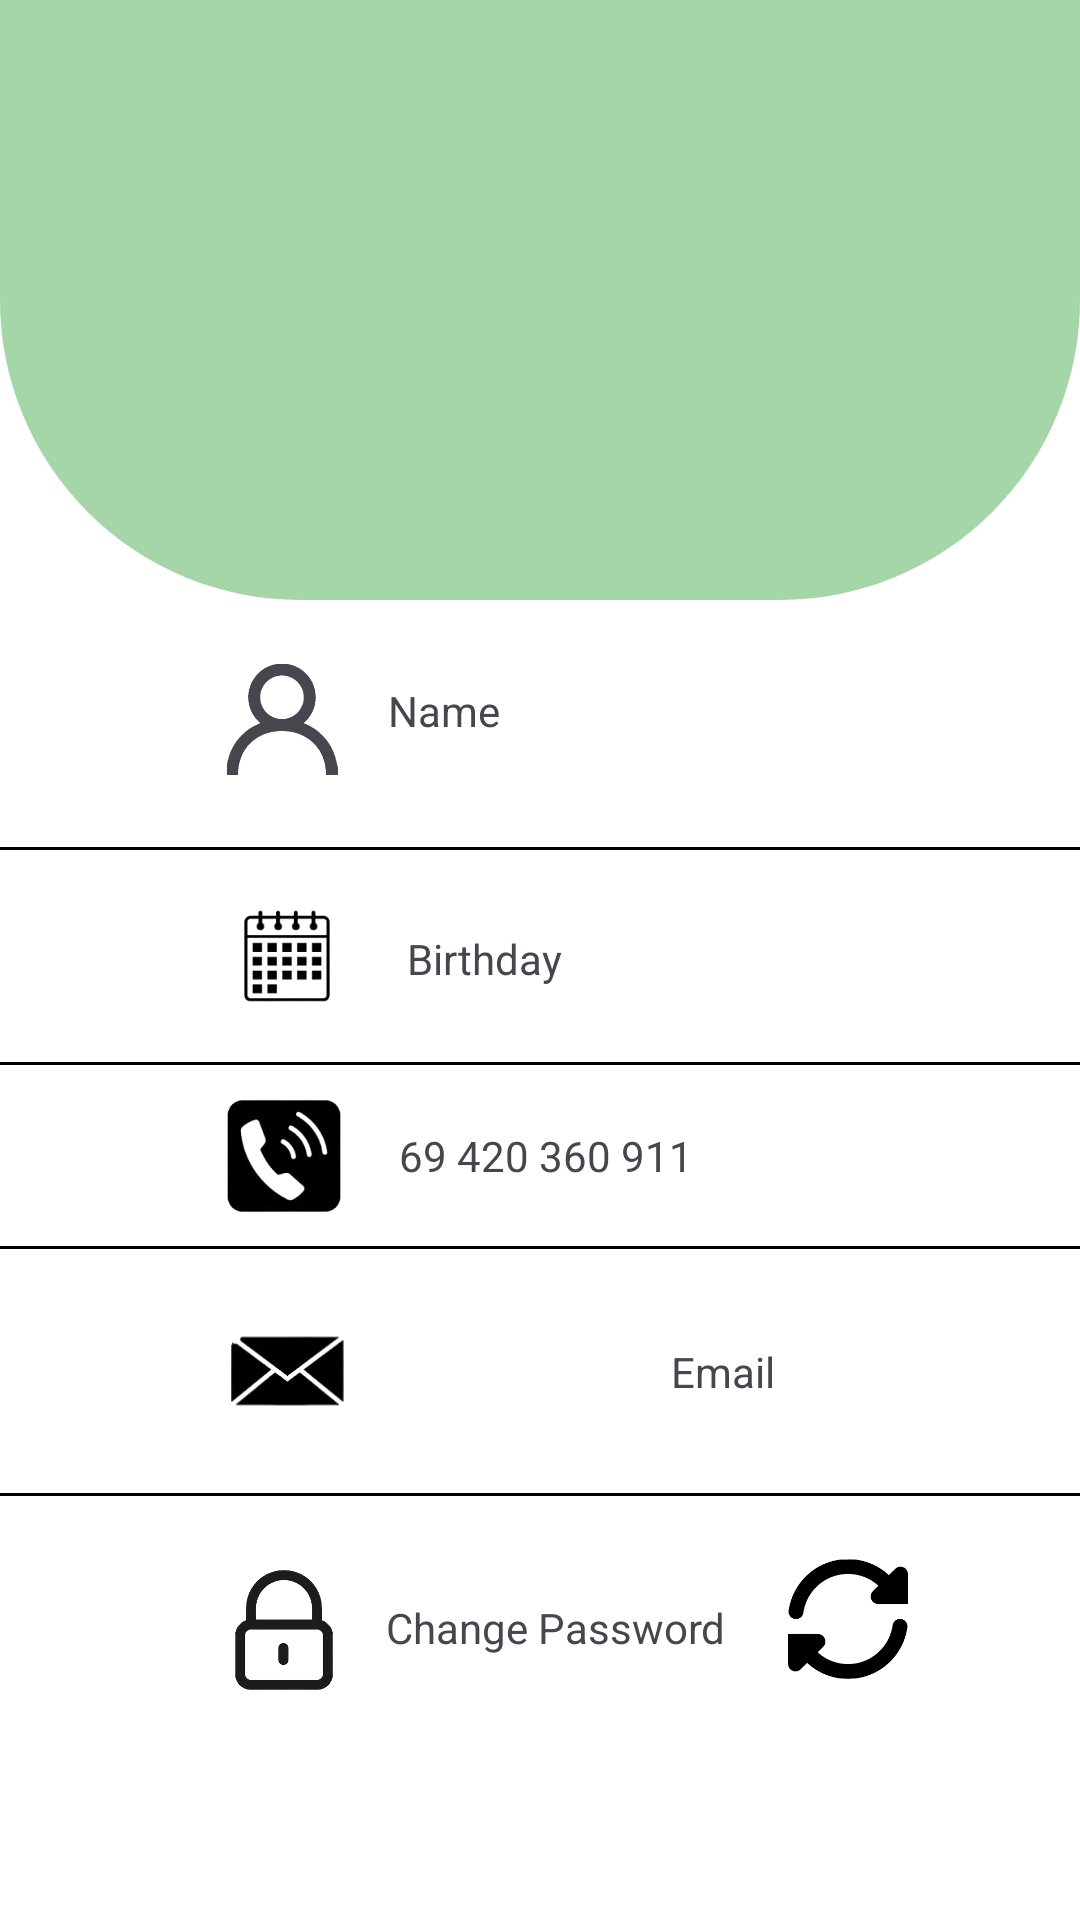

Where to tap for icons on this 1080×1920 app screen, as (x=x, y=y):
calender: (x=287, y=956)
call: (x=284, y=1156)
lock: (x=284, y=1630)
mail: (x=287, y=1371)
profile: (x=282, y=719)
retry: (x=848, y=1619)
